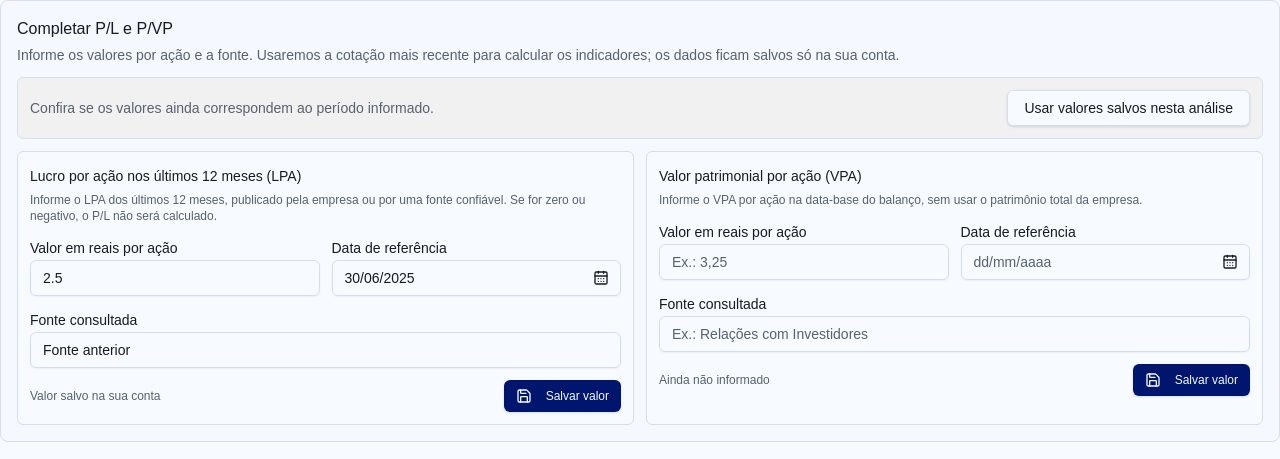
Test: ManualStockValuationInputs › loads saved values and persists sourced per-share inputs accessibly
expect the heading "Completar P/L e P/VP" is shown: met, box [17, 20, 173, 37]
Replace the text in the number field labelled "Lucro por ação nos últimos 12 meses (LPA)" with "3.25" at (175, 278), box [30, 260, 320, 296]
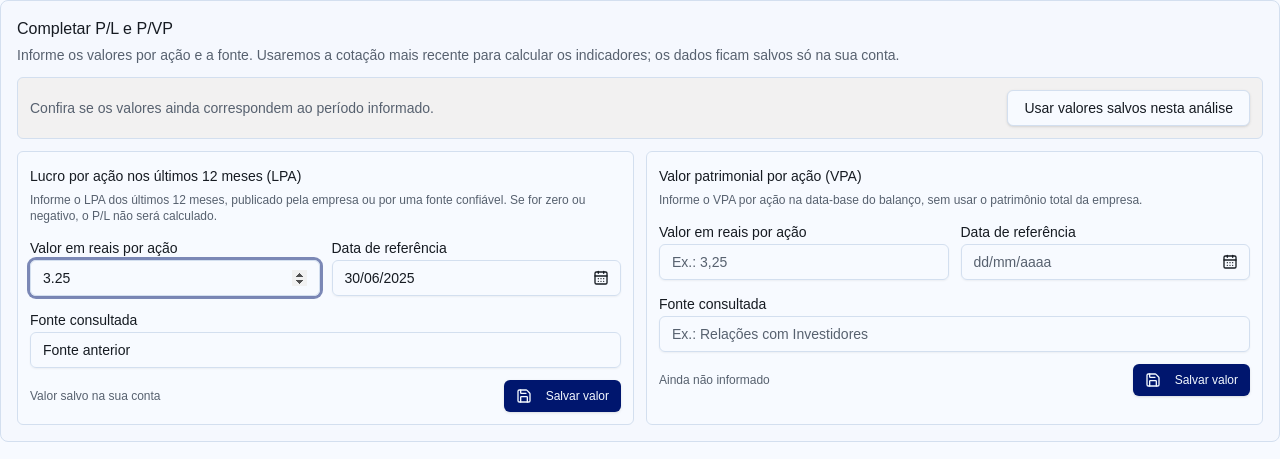
Replace the text in the 2nd field labelled "Fonte consultada" with "Relações com Investidores" at (326, 350), box [30, 332, 621, 368]
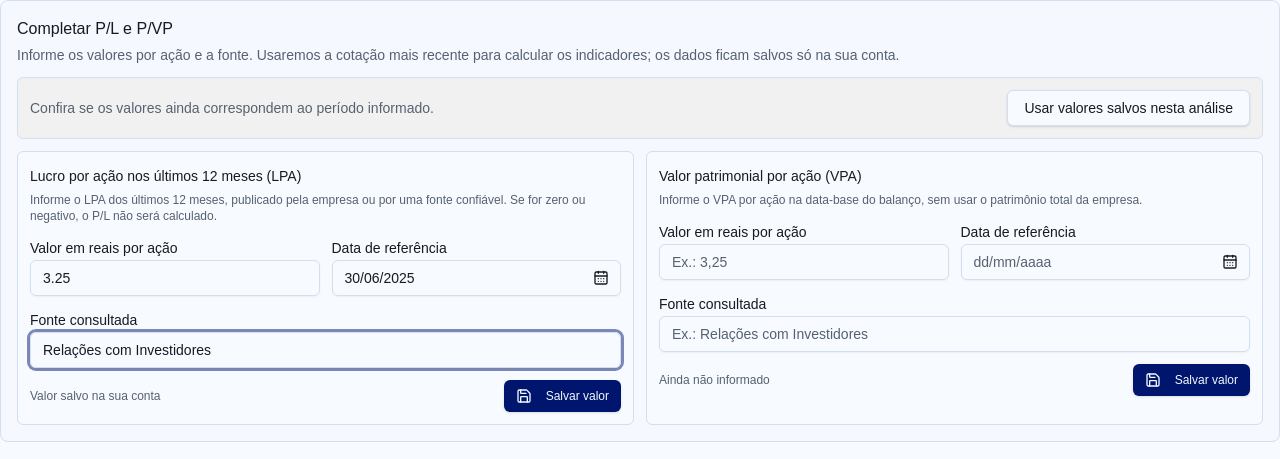
Replace the text in the 2nd field with placeholder "dd/mm/aaaa" with "31/12/2025" at (476, 278), box [332, 260, 621, 296]
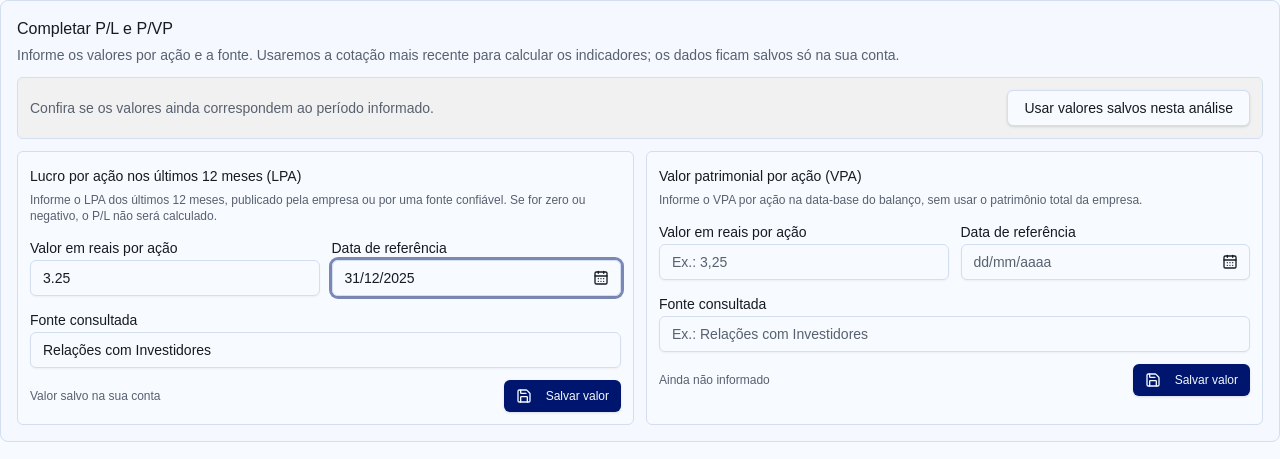
Click the button "Salvar valor" in the row of "Valor salvo na sua conta" at (562, 396), box [504, 380, 621, 412]
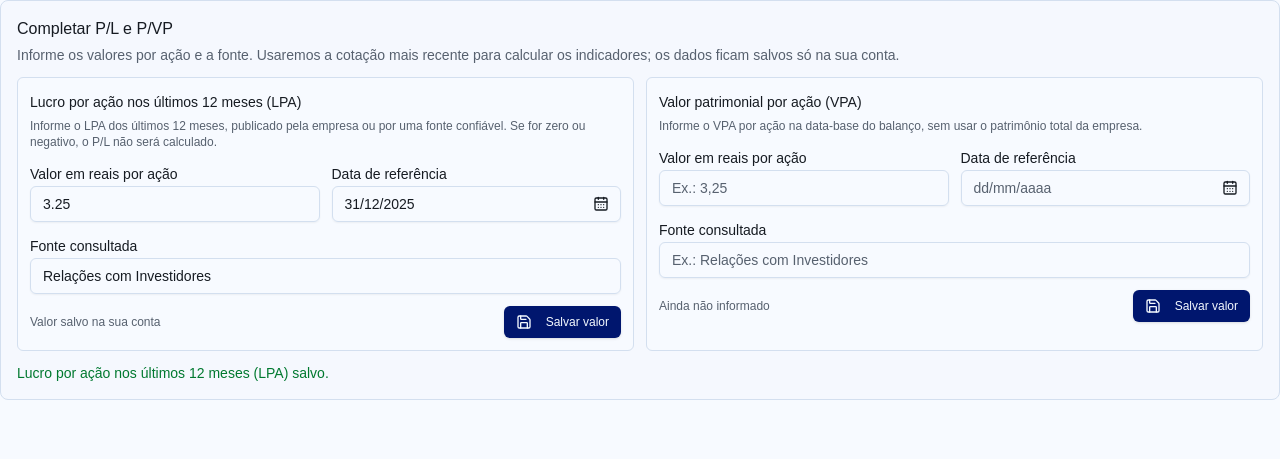
expect the text "Lucro por ação nos últimos 12 meses (LPA) salvo." is shown: met, box [17, 365, 329, 381]
